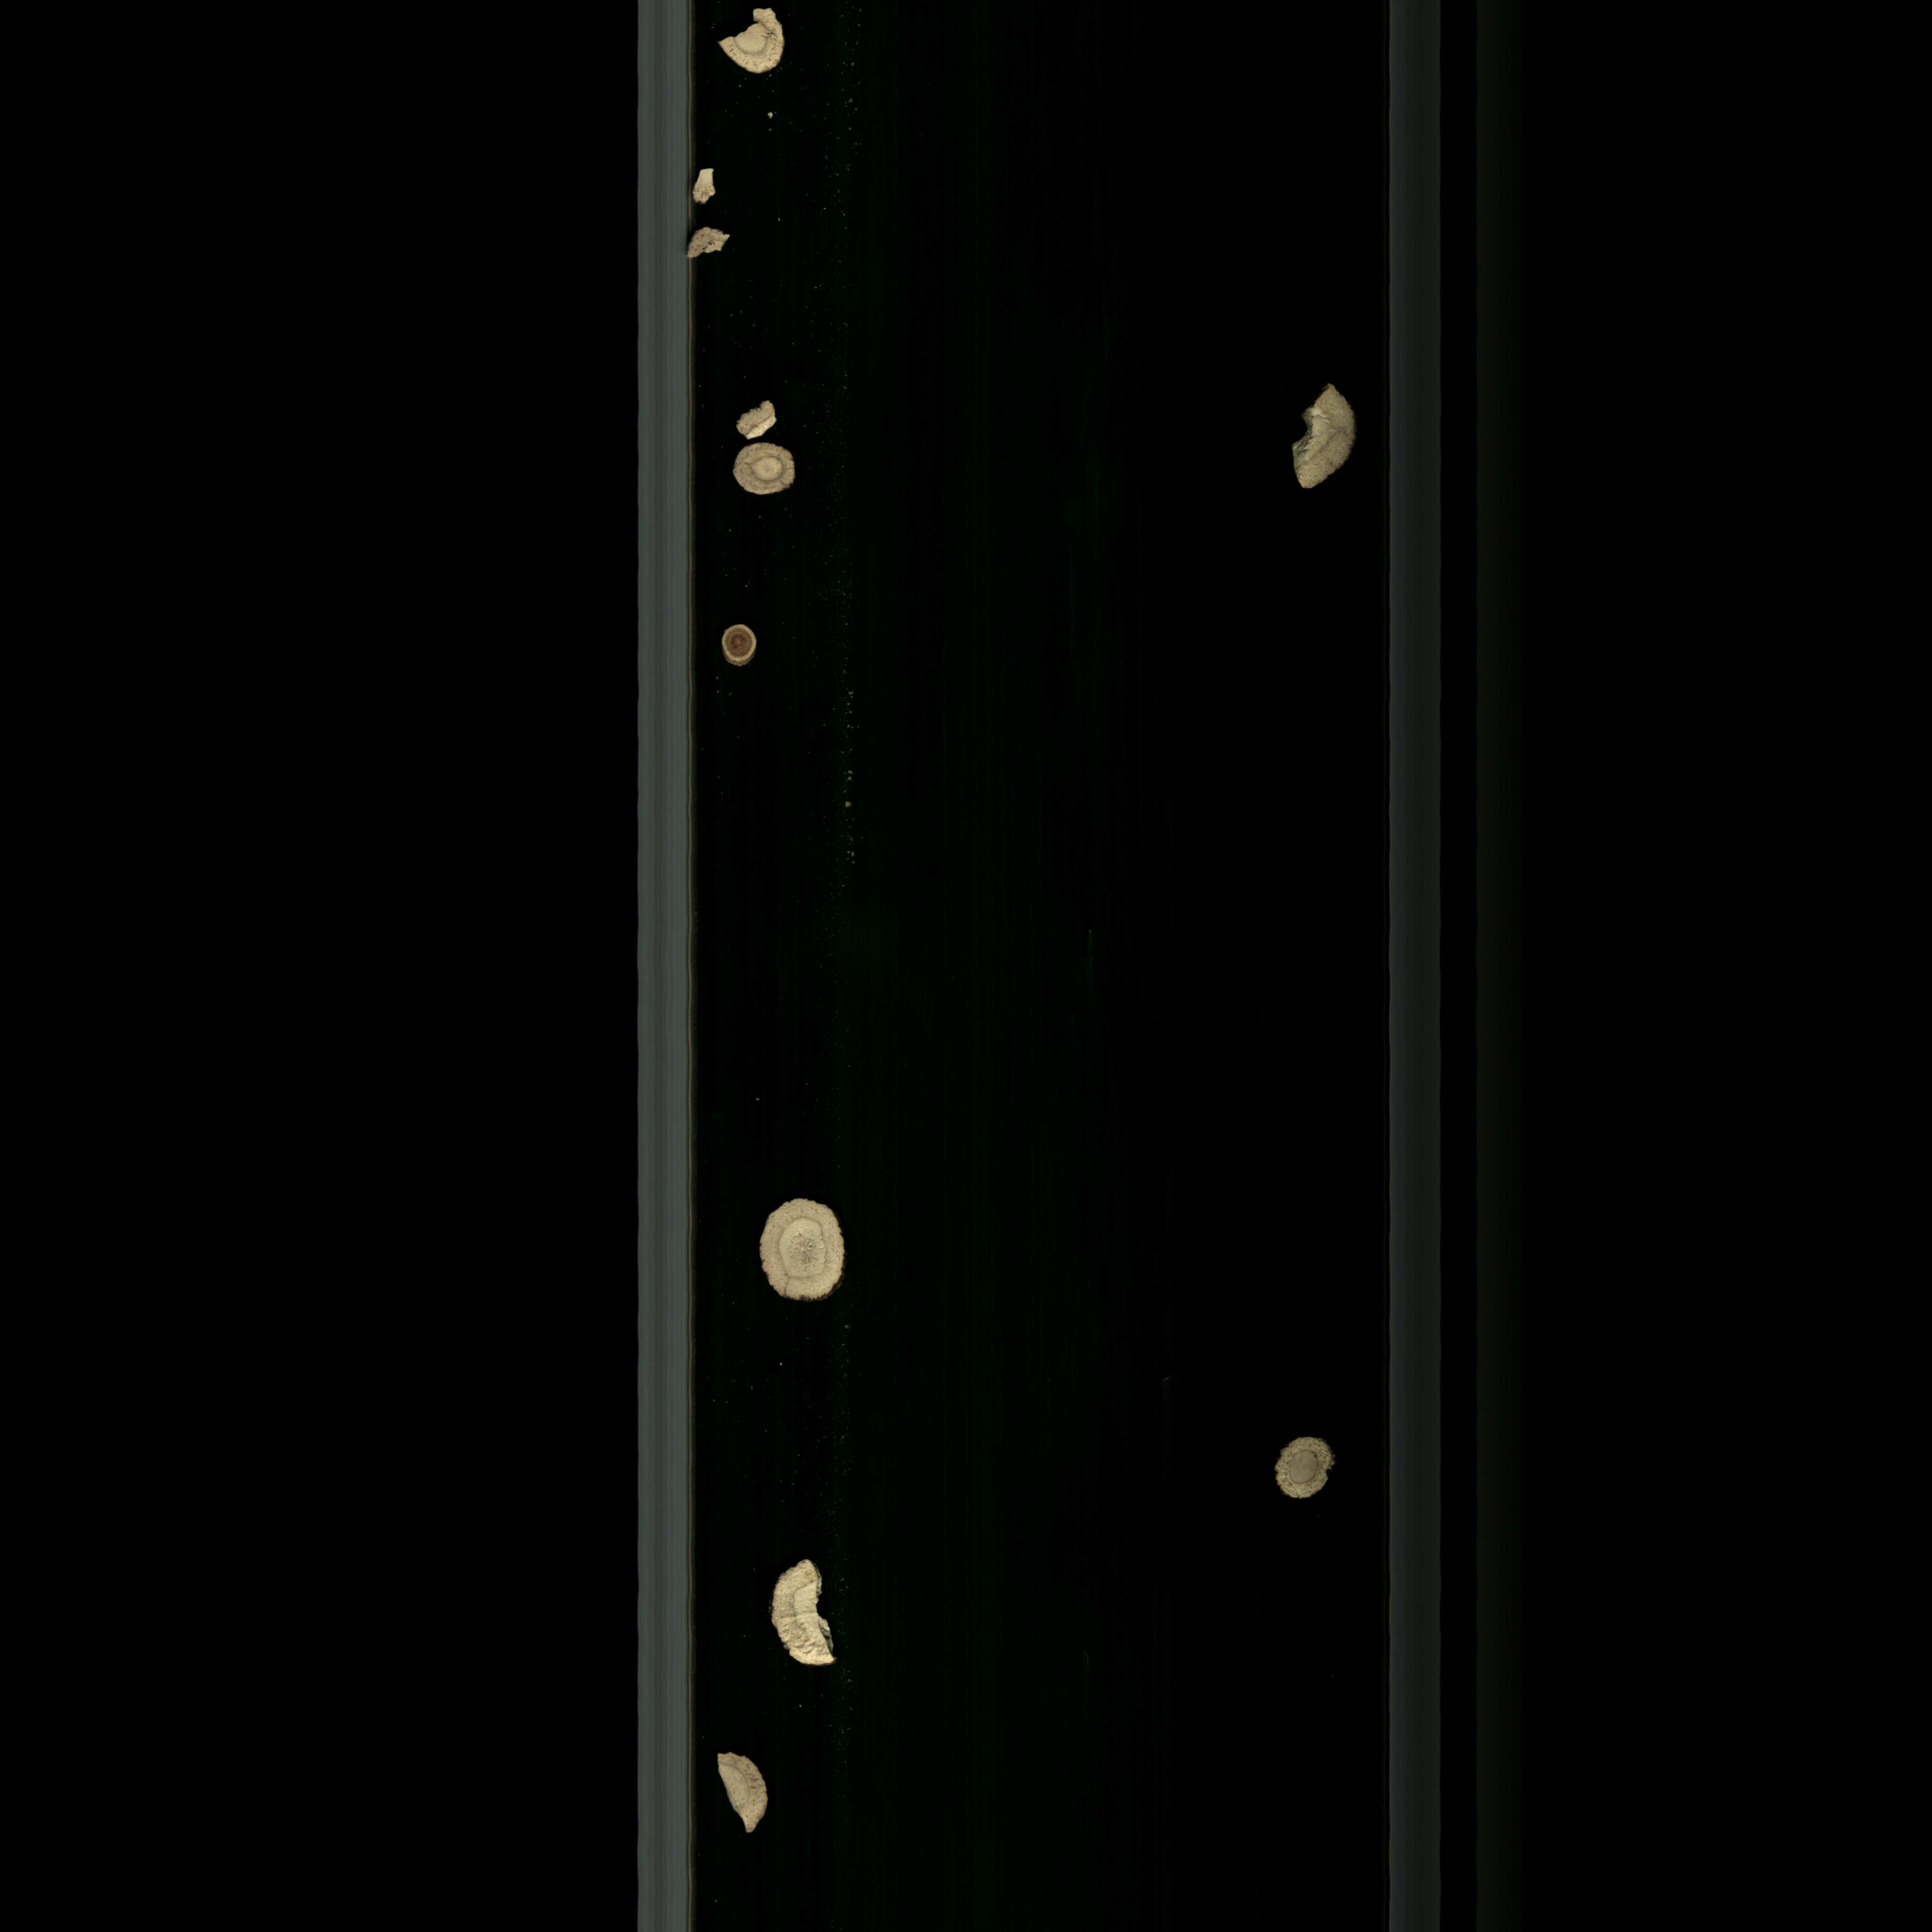debris: (754, 1546, 846, 1674), (1283, 373, 1359, 495), (706, 1743, 778, 1845), (708, 7, 800, 78)
dreg: (729, 396, 787, 441), (674, 225, 745, 260), (690, 161, 731, 209)
moldy: (713, 621, 770, 669)
